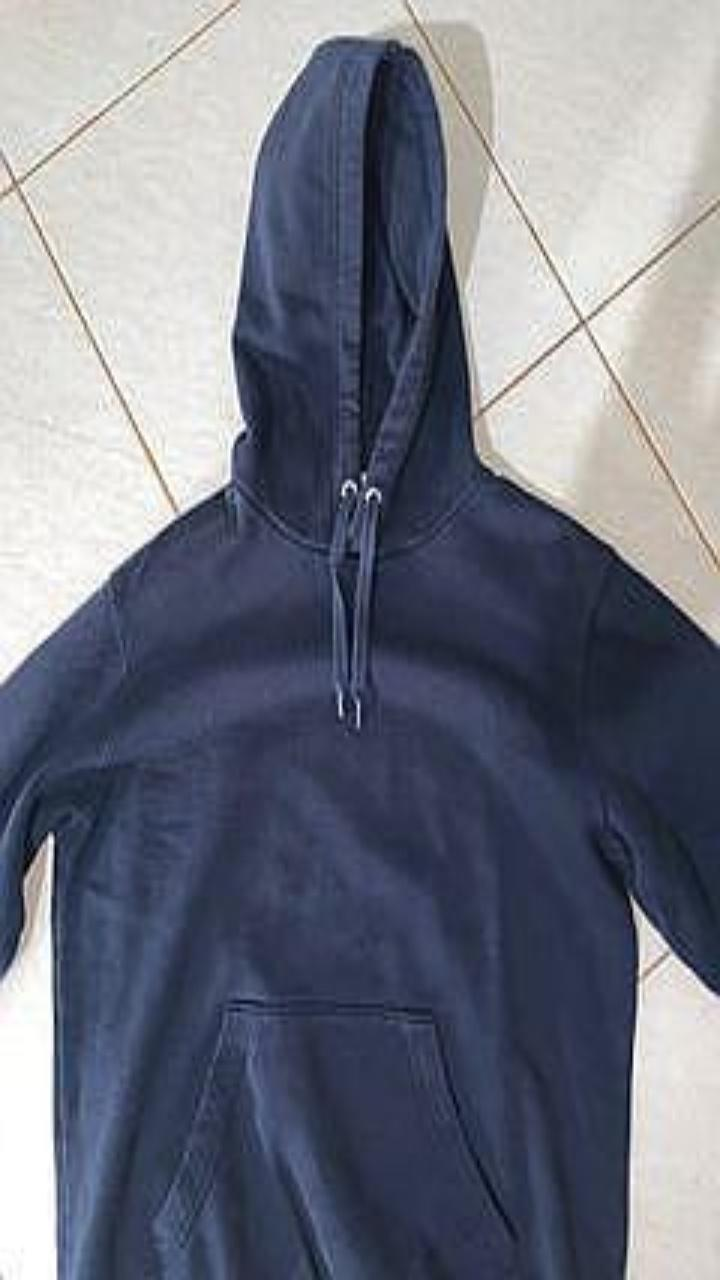Hoodie: (0, 38, 719, 1279)
